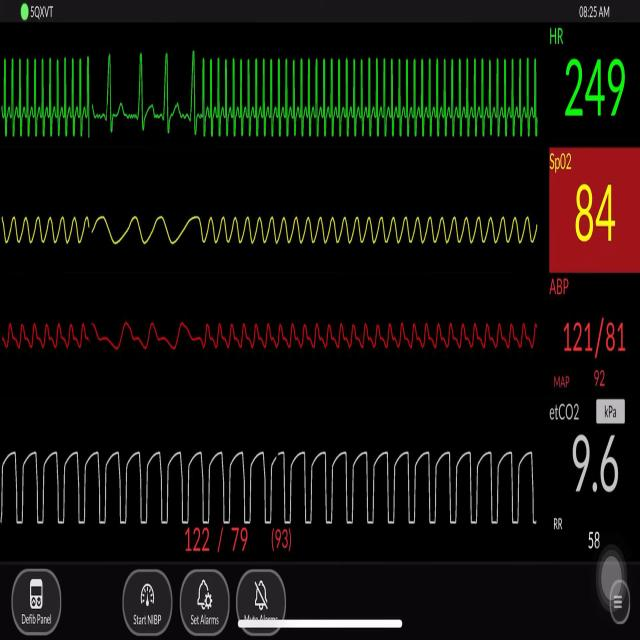danger: (191, 41, 546, 148), (5, 49, 96, 150)
